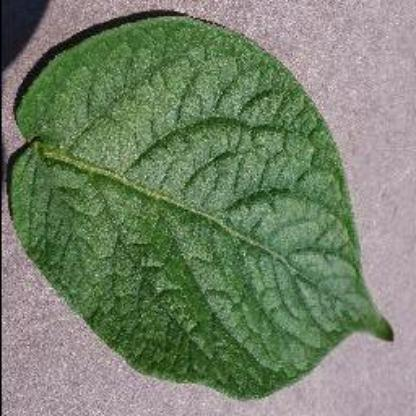Healthy-plant: (6, 7, 392, 399)
